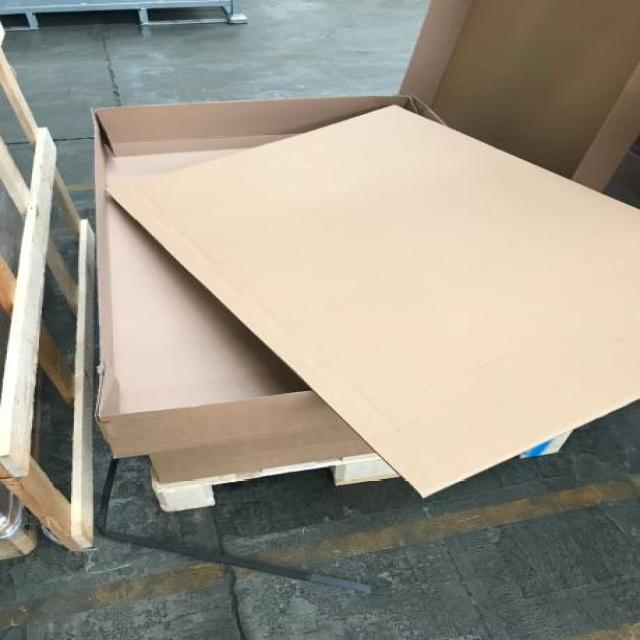Wooden-Pallets: (147, 451, 394, 523)
